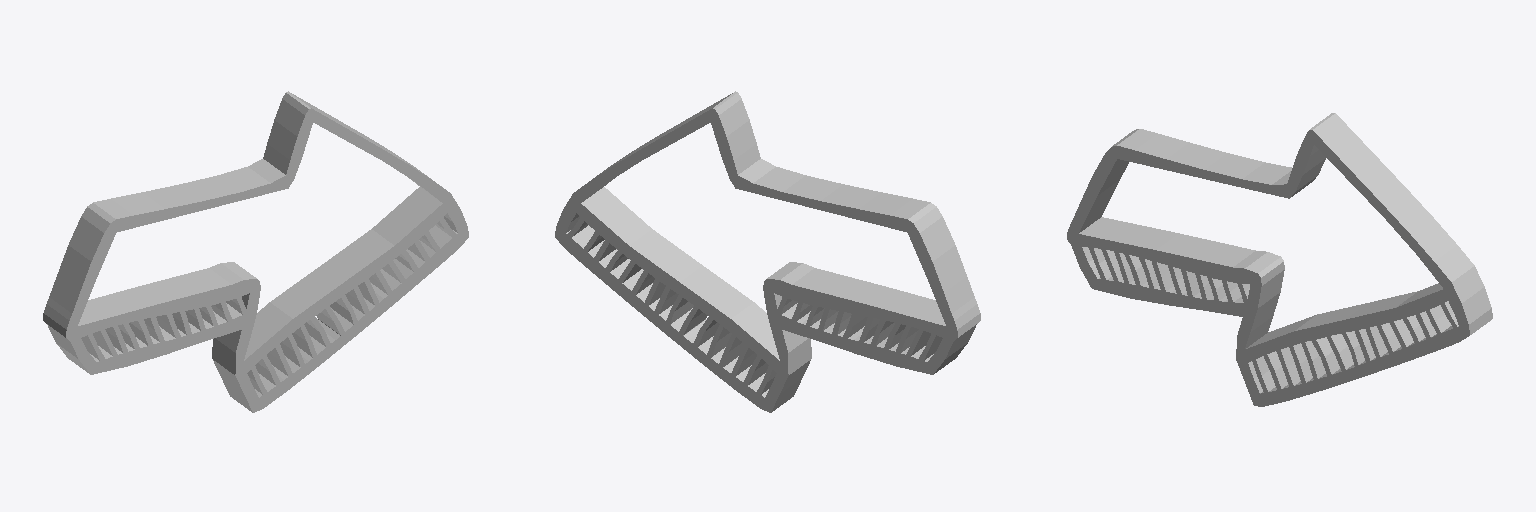
Rendered from Arrow.obj.
3 renders of one model, left to right at view 1: azimuth 30°, elevation 25°; view 2: azimuth 150°, elevation 25°; view 3: azimuth 330°, elevation 25°, orthographic.
Visible parts, largest first — view 1: Mesh1 R1 Model; view 2: Mesh1 R1 Model; view 3: Mesh1 R1 Model.
Part boxes in pixels (x1,y1,x2,y2): Mesh1 R1 Model: (43, 91, 468, 412); Mesh1 R1 Model: (555, 91, 980, 412); Mesh1 R1 Model: (1067, 113, 1492, 406).
Bounding box in the file's own units: 11.94 × 8.22 × 1.19.